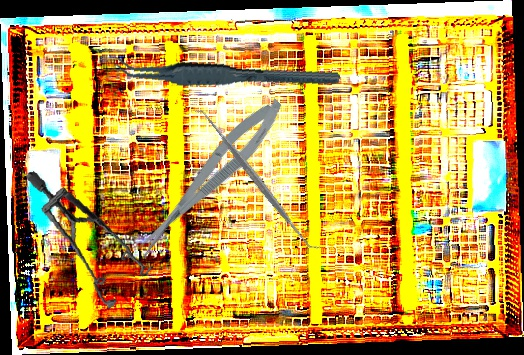Micro Scissor: (125, 90, 293, 263)
Spatula Surgical: (192, 100, 323, 260)
Speculum: (25, 156, 158, 319)
Tissue Forceps: (111, 36, 341, 111)
